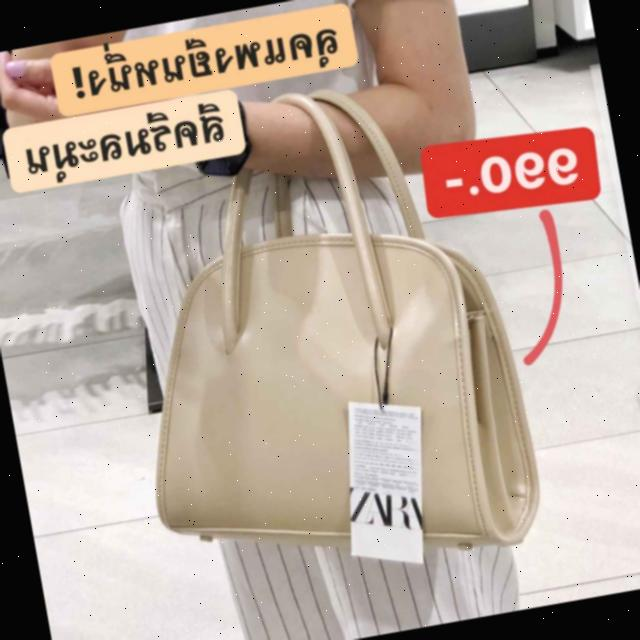Handbag: (114, 197, 566, 618)
